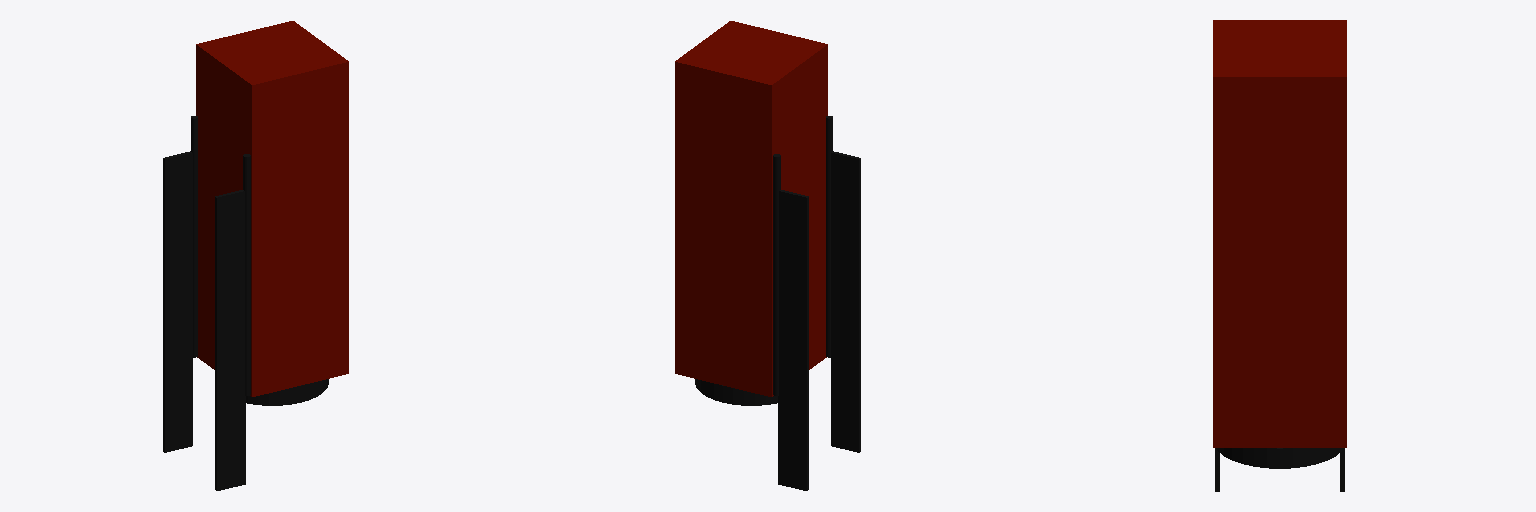
The robot description file, URDF, robot "AppliedVisionSystem":
<robot name="AppliedVisionSystem">

	<link name="vision_box">
	   <visual>
		   <origin xyz="0 0 0" rpy="0 0 0"/>
		   <geometry>
			   <box size="0.29832 0.29832 0.91457"/>
		   </geometry>
		   <material name="DarkRed">
				  <color rgba="0.45 0.06 0.01 1.0"/>
			</material>
	   </visual>	
   </link>
   
   
   <joint name="joint_vb_cylinder" type="fixed">
	   <parent link="vision_box"/>
	   <child link="cylinder"/>
	   <origin xyz="0 0 -0.457285" rpy="0 0 0"/>
   </joint>
			  

	<link name="cylinder">
	   <visual>
		   <origin xyz="0 0 -0.025" rpy="0 0 0"/>
		   <geometry>
			   <cylinder radius="0.15" length="0.05"/>
		   </geometry>  
		   <material name="Grey">
			   <color rgba="0.1 0.1 0.1 1.0"/>
		   </material>
	   </visual>	
   </link>
   
   <joint name="joint_vb_pipe_left" type="fixed">
	   <parent link="vision_box"/>
	   <child link="pipe_left"/>
	   <origin xyz="-0.15916 -0.13916 -0.1" rpy="0 0 0"/>
   </joint>

   <link name="pipe_left">
	   <visual>
		   <origin xyz="0 0 0" rpy="0 0 0"/>
		   <geometry>
			   <cylinder radius="0.01" length="0.7"/>
		   </geometry>  
		   <material name="Grey">
			   <color rgba="0.1 0.1 0.1 1.0"/>
		   </material>
	   </visual>	
   </link>

   <joint name="joint_vb_pipe_right" type="fixed">
	   <parent link="vision_box"/>
	   <child link="pipe_right"/>
	   <origin xyz="-0.15916 0.13916 -0.1" rpy="0 0 0"/>
   </joint>

   <link name="pipe_right">
	   <visual>
		   <origin xyz="0 0 0" rpy="0 0 0"/>
		   <geometry>
			   <cylinder radius="0.01" length="0.7"/>
		   </geometry>  
		   <material name="Grey">
			   <color rgba="0.1 0.1 0.1 1.0"/>
		   </material>
	   </visual>	
   </link>

   <joint name="joint_vb_ha_left" type="fixed">
	   <parent link="vision_box"/>
	   <child link="height_adjuster_left"/>
	   <origin xyz="0 0 0" rpy="0 0 0"/>
   </joint>


   <link name="height_adjuster_left">
	   <visual>
		   <origin xyz="-0.21 -0.13916 -0.28" rpy="0 0 0"/>
		   <geometry>
			   <box size="0.088 0.01 0.86040"/>
		   </geometry>  
		   <material name="Grey">
			   <color rgba="0.1 0.1 0.1 1.0"/>
		   </material>
	   </visual>	
   </link>

   <joint name="joint_vb_ha_right" type="fixed">
	   <parent link="vision_box"/>
	   <child link="height_adjuster_right"/>
	   <origin xyz="0 0 0" rpy="0 0 0"/>
   </joint>

   <link name="height_adjuster_right">
	   <visual>
		   <origin xyz="-0.21 0.13916 -0.28" rpy="0 0 0"/>
		   <geometry>
			   <box size="0.088 0.01 0.86040"/>
		   </geometry>  
		   <material name="Grey">
			   <color rgba="0.1 0.1 0.1 1.0"/>
		   </material>
	   </visual>	
   </link>
   

</robot>

--- Facts derived from the render (not from the file) ---
Views: 3 orthographic renders of the robot side by side, from view 1: azimuth 30°, elevation 25°; view 2: azimuth 150°, elevation 25°; view 3: azimuth 270°, elevation 25°.
Robot: AppliedVisionSystem — 6 links, 5 joints (5 fixed); root link vision_box; default pose: all joints at 0.
Links seen in each view (by area): view 1: vision_box, height_adjuster_left, height_adjuster_right, pipe_left, pipe_right, cylinder; view 2: vision_box, height_adjuster_right, height_adjuster_left, pipe_right, pipe_left, cylinder; view 3: vision_box, cylinder.
Link boxes in pixels (x1,y1,x2,y2): vision_box: (196,21,348,396); height_adjuster_left: (215,190,245,490); height_adjuster_right: (163,151,192,452); pipe_left: (243,154,250,395); pipe_right: (191,116,197,357); cylinder: (246,379,328,405); vision_box: (675,21,827,396); height_adjuster_right: (778,190,808,490); height_adjuster_left: (831,151,860,452); pipe_right: (773,154,780,395); pipe_left: (826,116,832,357); cylinder: (695,379,777,405); vision_box: (1213,20,1346,447); cylinder: (1216,448,1343,468).
Bounding box of the posed robot: 0.404 × 0.3 × 1.17 m (x, y, z).
Geometry: primitives only (box / cylinder / sphere), no mesh files.